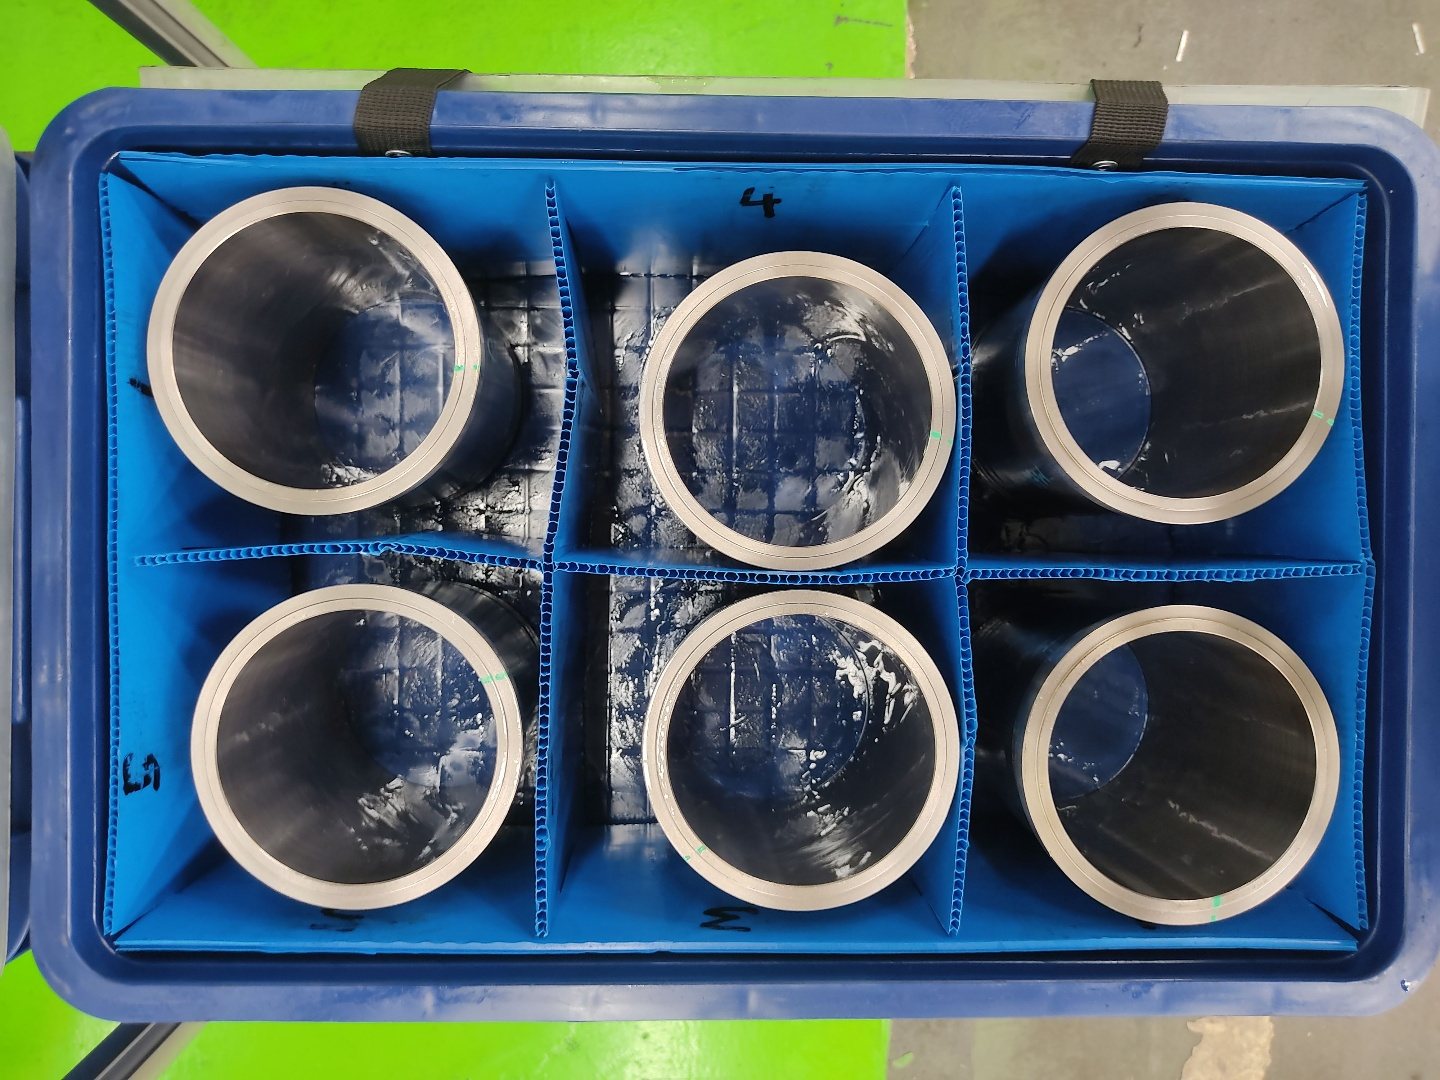cylinder: (141, 180, 485, 521), (186, 580, 527, 913), (638, 588, 964, 918), (1023, 199, 1348, 528), (635, 246, 960, 574), (1020, 599, 1342, 927)
